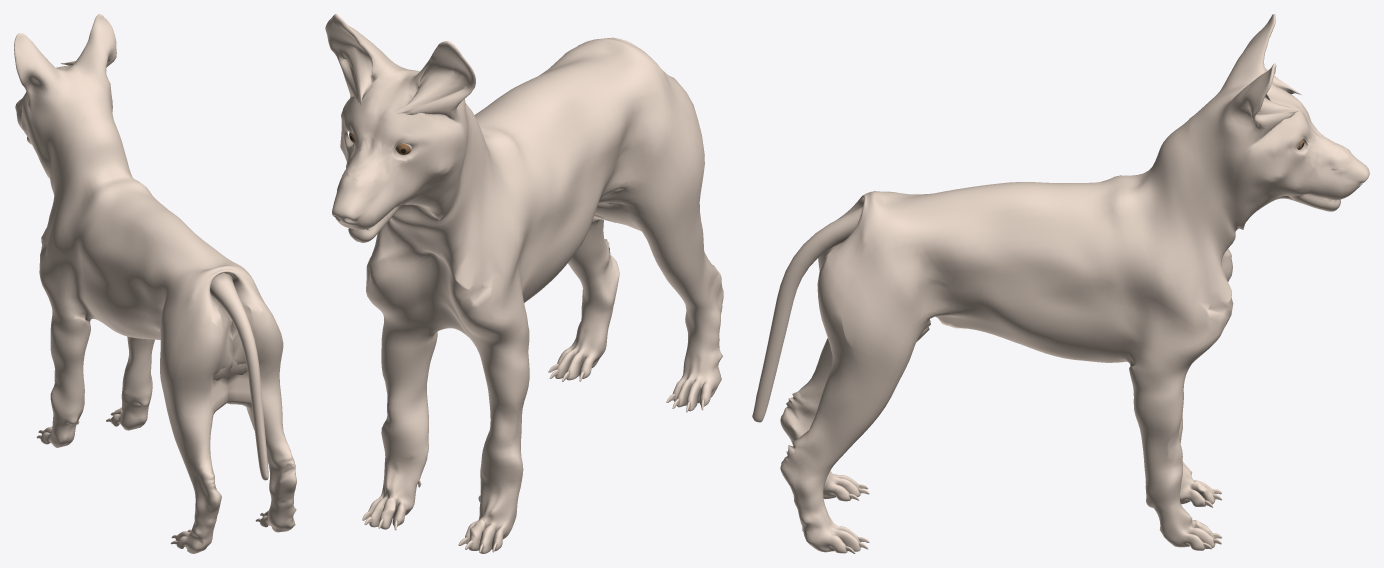
File: integumentary.glb
3 views of the same model, side by side, from view 1: azimuth 30°, elevation 25°; view 2: azimuth 150°, elevation 25°; view 3: azimuth 270°, elevation 25° (orthographic). The views are drawn at different scales.
Parts seen in each view (by area): view 1: dog_integumentary_skin; view 2: dog_integumentary_skin; view 3: dog_integumentary_skin.
Boxes of the visible parts, x1,y1,x2,y2 form: dog_integumentary_skin: [14, 14, 296, 553]; dog_integumentary_skin: [325, 14, 723, 553]; dog_integumentary_skin: [752, 14, 1369, 553].
Size of the model in its own units: 0.2183 by 0.72 by 0.8314.
